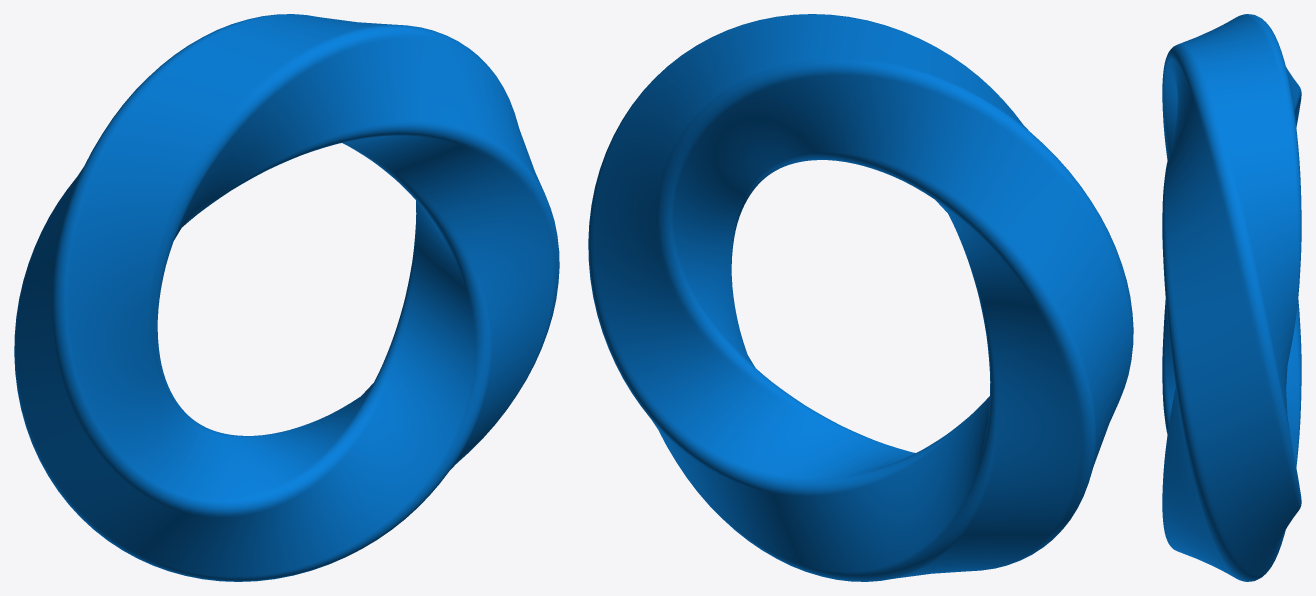
Rendered from wrap2.fbx.
The picture shows the model from 3 angles, left to right: view 1: azimuth 30°, elevation 25°; view 2: azimuth 150°, elevation 25°; view 3: azimuth 270°, elevation 25°; orthographic projection. The views are drawn at different scales.
Visible parts, largest first — view 1: fat_wrap_circle_quads_:default001sdfdsfsd; view 2: fat_wrap_circle_quads_:default001sdfdsfsd; view 3: fat_wrap_circle_quads_:default001sdfdsfsd.
Part boxes in pixels (x1,y1,x2,y2): fat_wrap_circle_quads_:default001sdfdsfsd: (14,14,559,581); fat_wrap_circle_quads_:default001sdfdsfsd: (588,14,1133,581); fat_wrap_circle_quads_:default001sdfdsfsd: (1162,14,1301,581).
Size of the model in its own units: 503 by 503 by 128.
